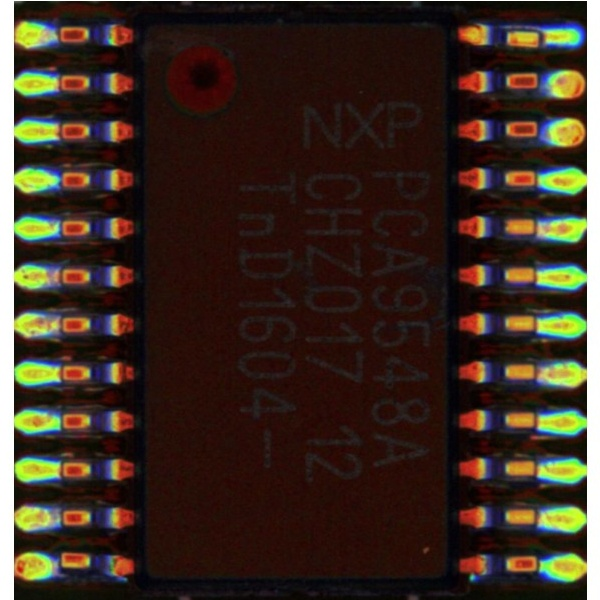Bad_podu: (38, 316, 71, 331), (517, 221, 554, 234), (42, 123, 74, 138), (40, 269, 74, 281), (531, 30, 558, 38)
Bad_qiaojiao: (496, 23, 539, 30)
